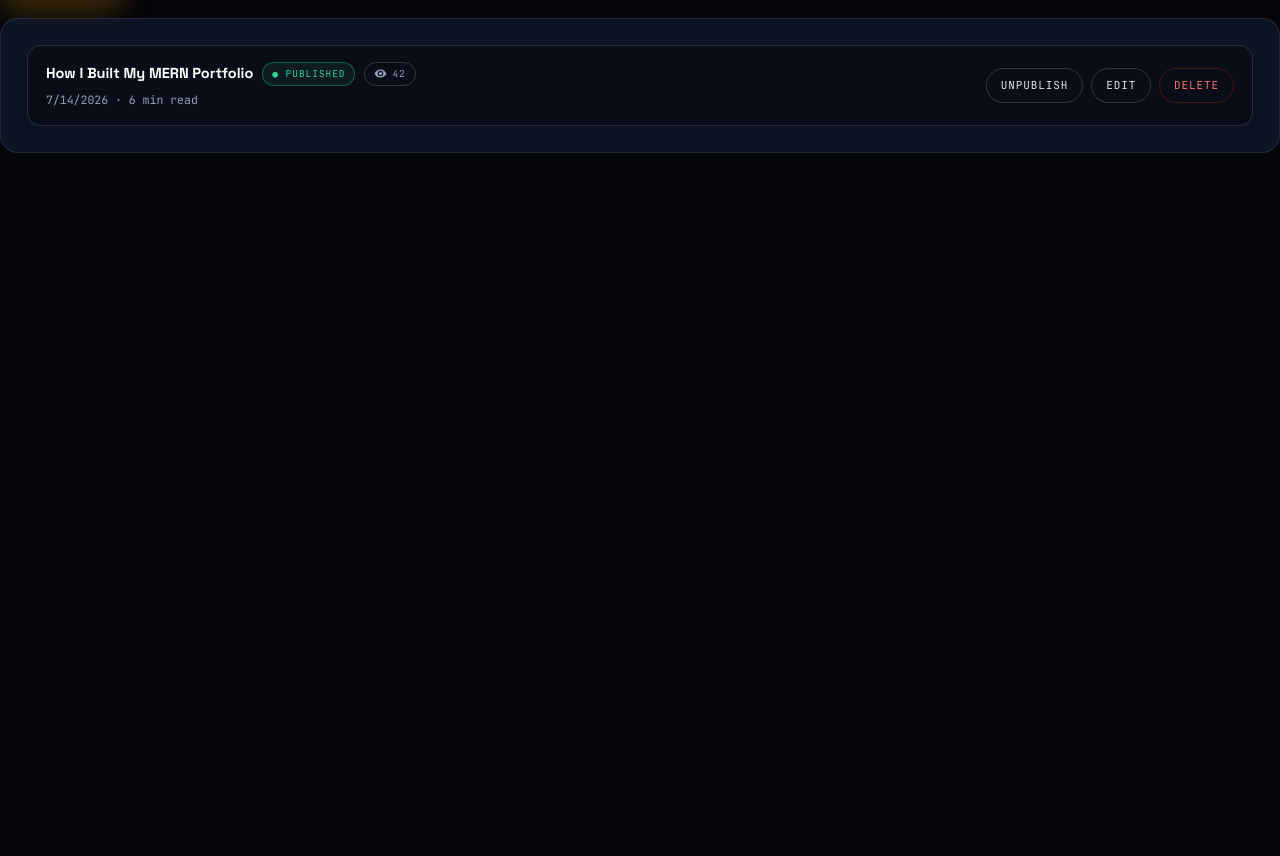
Test: AdminBlogPanel — Edit opens the post’s real body (the PF-97 bug) › fills title, excerpt and tags
Click the button "EDIT".
click(1121, 86)  # box top-left (1091, 68), bottom-right (1151, 104)
(page scrolled)
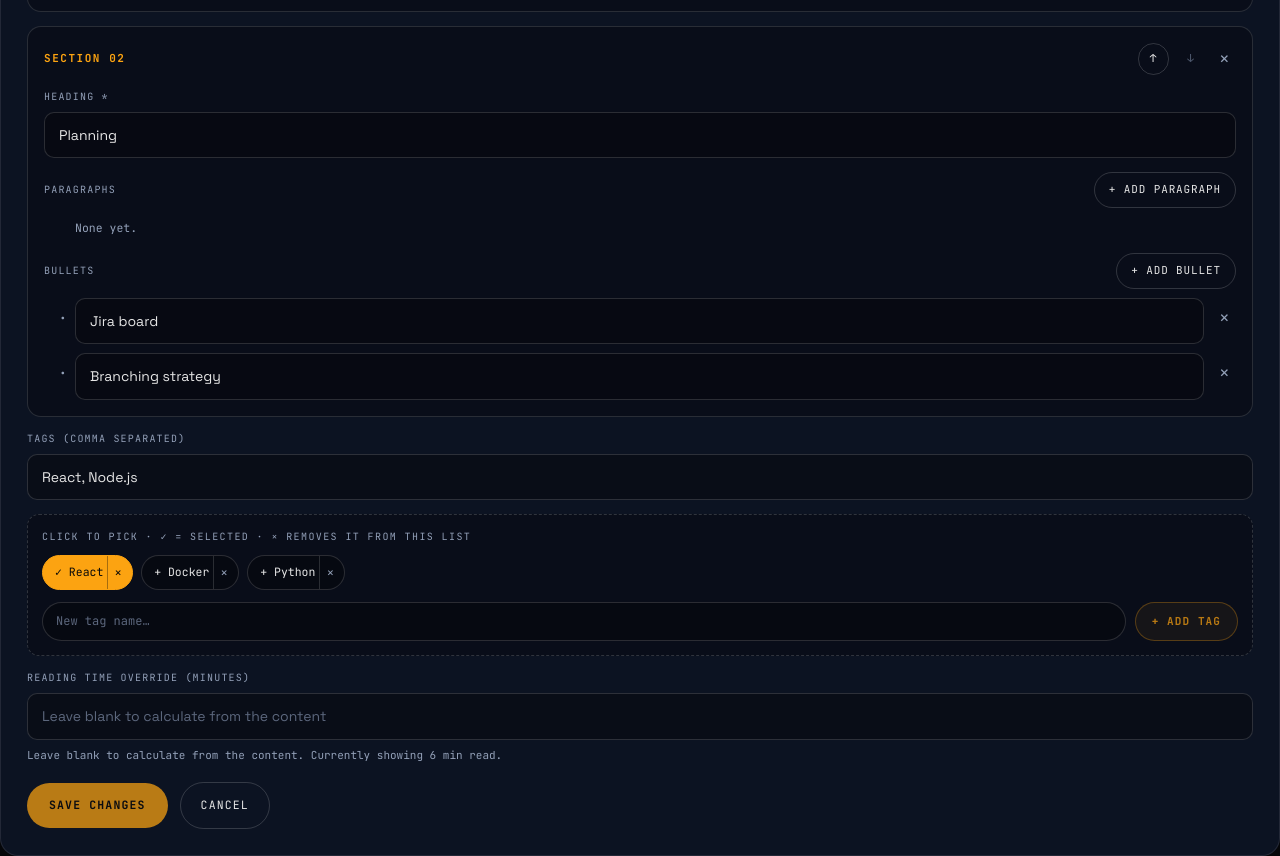
Check: the field labelled "Tags (comma separated)" holds "React, Node.js", box top-left (27, 454), bottom-right (1253, 500)
